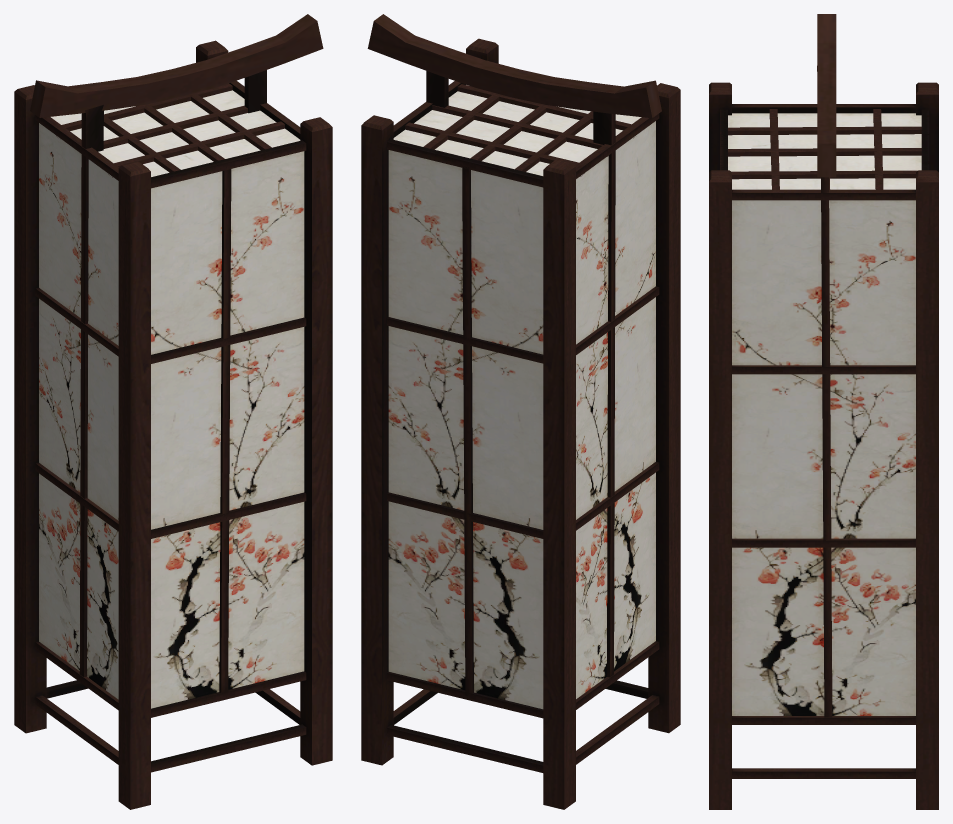
Rendered from Lantern3.a.fbx.
The picture shows the model from 3 angles, left to right: view 1: azimuth 30°, elevation 25°; view 2: azimuth 150°, elevation 25°; view 3: azimuth 270°, elevation 25°; orthographic projection.
Visible parts, largest first — view 1: Group 0; view 2: Group 0; view 3: Group 0.
Part boxes in pixels (x1=…): Group 0: x1=14, y1=14, x2=332, y2=809; Group 0: x1=361, y1=14, x2=680, y2=809; Group 0: x1=709, y1=14, x2=938, y2=809.
Size of the model in its own units: 31.66 by 73.53 by 22.42.
2 materials, 2 textured.
